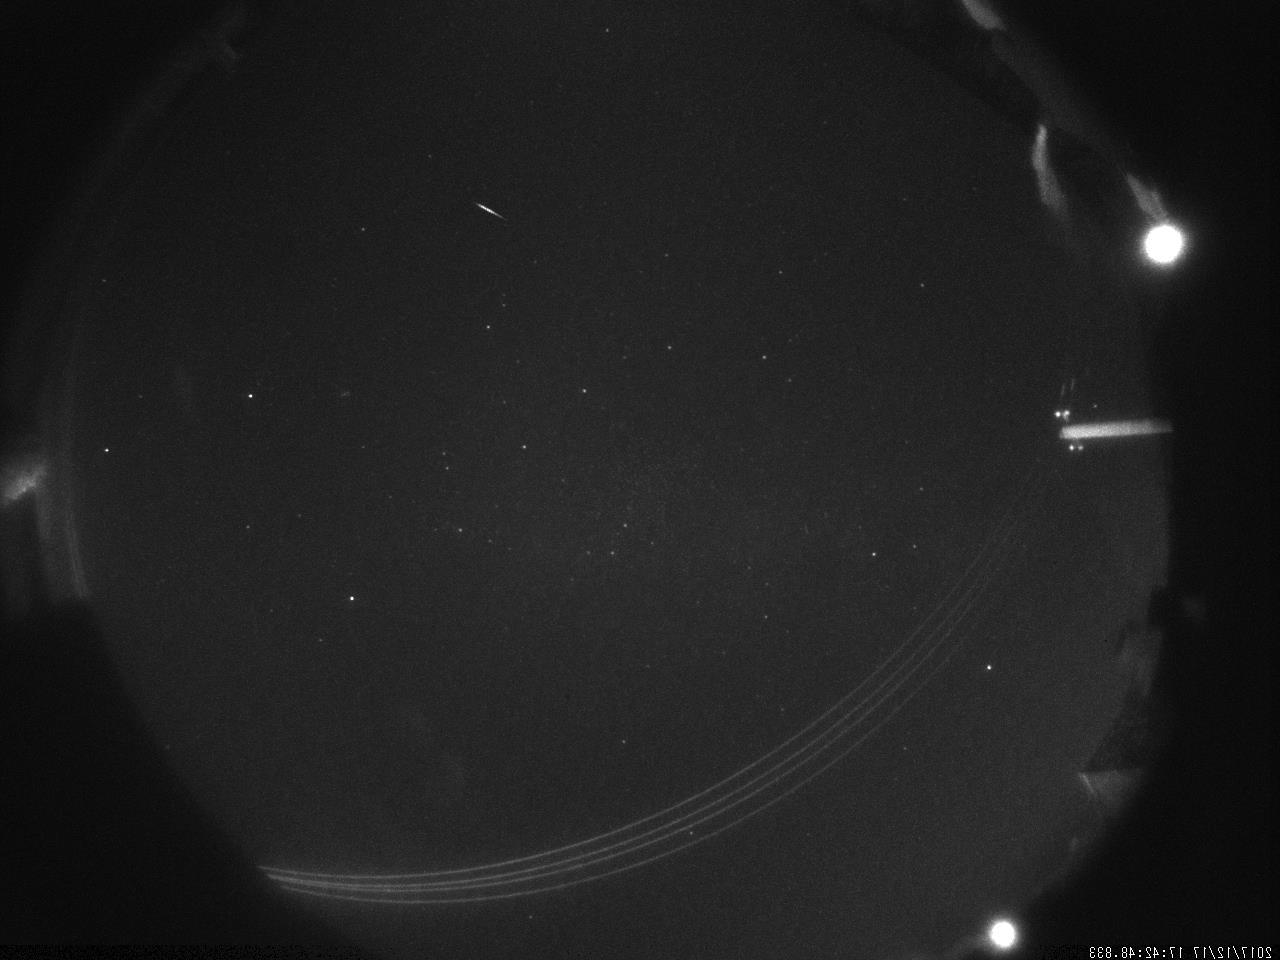meteor: (459, 190, 516, 230)
